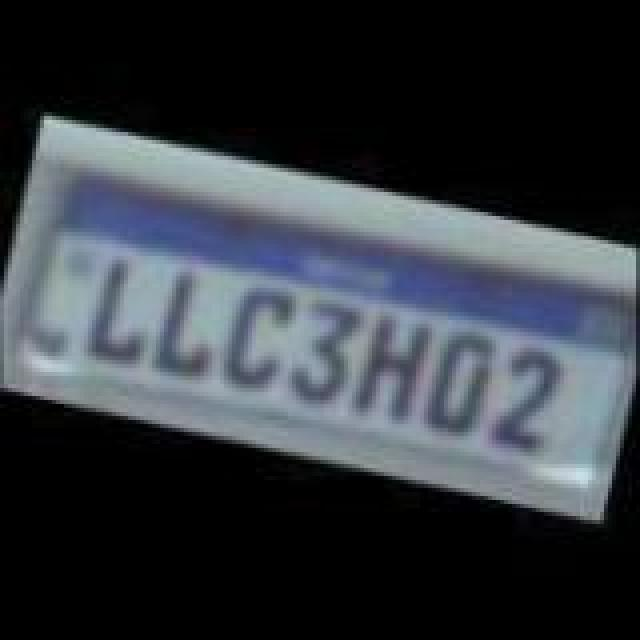2: (472, 324, 568, 452)
3: (280, 280, 372, 412)
C: (210, 274, 298, 398)
D: (410, 314, 502, 442)
H: (336, 298, 432, 430)
L: (144, 252, 236, 384), (74, 248, 162, 372)
